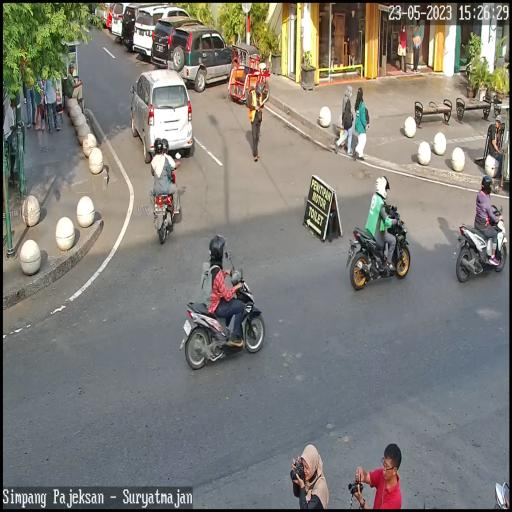mobil: (128, 65, 198, 159), (168, 28, 240, 90), (152, 15, 211, 78), (133, 4, 194, 64)
motor: (182, 256, 264, 370), (346, 196, 412, 294), (454, 199, 506, 284), (149, 158, 183, 242)
